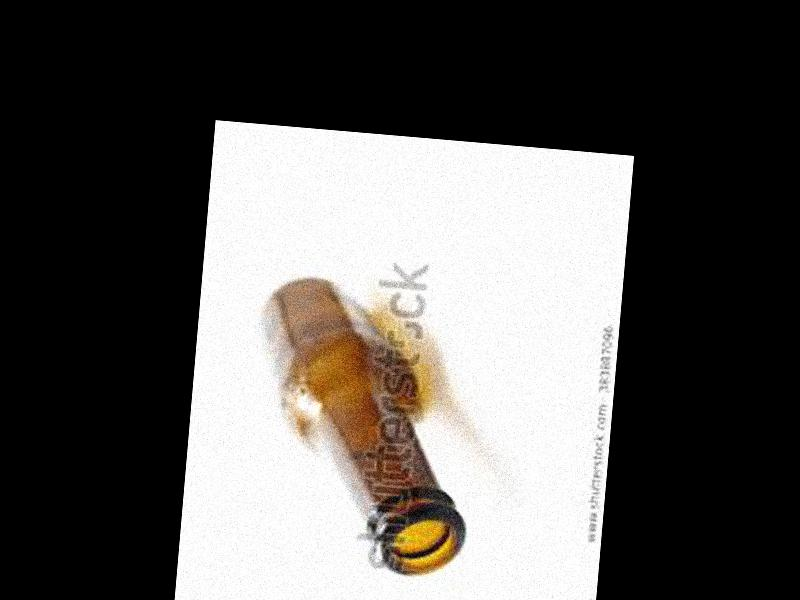Beer: (240, 272, 488, 581)
